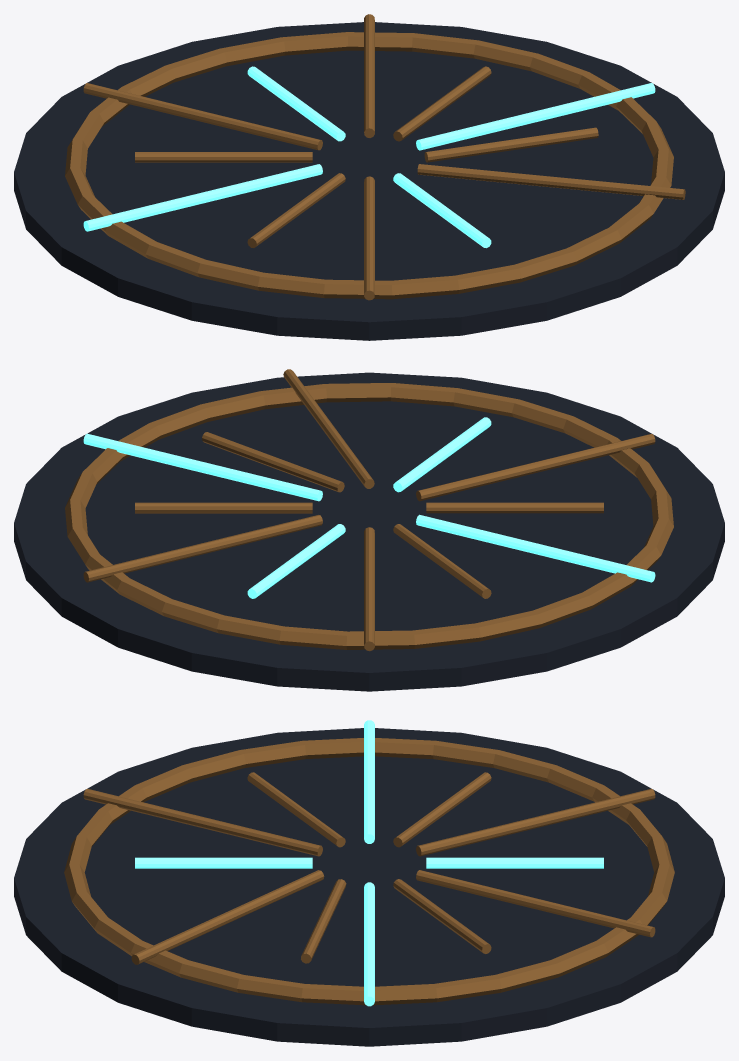
Rendered from runtime.glb.
3 views of the same model, one above another, from view 1: azimuth 30°, elevation 25°; view 2: azimuth 150°, elevation 25°; view 3: azimuth 270°, elevation 25° (orthographic).
Parts seen in each view (by area): view 1: aetherion-astronomical-medallion-v04_field_nocol, aetherion-astronomical-medallion-v04_outer_meridian_nocol, aetherion-astronomical-medallion-v04_bearing_10_nocol, aetherion-astronomical-medallion-v04_bearing_06_nocol, aetherion-astronomical-medallion-v04_bearing_00_nocol, aetherion-astronomical-medallion-v04_bearing_04_nocol, aetherion-astronomical-medallion-v04_bearing_11_nocol, aetherion-astronomical-medallion-v04_bearing_05_nocol, aetherion-astronomical-medallion-v04_bearing_01_nocol, aetherion-astronomical-medallion-v04_bearing_03_nocol, aetherion-astronomical-medallion-v04_bearing_09_nocol, aetherion-astronomical-medallion-v04_bearing_08_nocol (+2 smaller); view 2: aetherion-astronomical-medallion-v04_field_nocol, aetherion-astronomical-medallion-v04_outer_meridian_nocol, aetherion-astronomical-medallion-v04_bearing_02_nocol, aetherion-astronomical-medallion-v04_bearing_00_nocol, aetherion-astronomical-medallion-v04_bearing_06_nocol, aetherion-astronomical-medallion-v04_bearing_08_nocol, aetherion-astronomical-medallion-v04_bearing_01_nocol, aetherion-astronomical-medallion-v04_bearing_07_nocol, aetherion-astronomical-medallion-v04_bearing_11_nocol, aetherion-astronomical-medallion-v04_bearing_10_nocol, aetherion-astronomical-medallion-v04_bearing_04_nocol, aetherion-astronomical-medallion-v04_bearing_09_nocol (+2 smaller); view 3: aetherion-astronomical-medallion-v04_field_nocol, aetherion-astronomical-medallion-v04_outer_meridian_nocol, aetherion-astronomical-medallion-v04_bearing_04_nocol, aetherion-astronomical-medallion-v04_bearing_08_nocol, aetherion-astronomical-medallion-v04_bearing_02_nocol, aetherion-astronomical-medallion-v04_bearing_10_nocol, aetherion-astronomical-medallion-v04_bearing_03_nocol, aetherion-astronomical-medallion-v04_bearing_09_nocol, aetherion-astronomical-medallion-v04_bearing_01_nocol, aetherion-astronomical-medallion-v04_bearing_00_nocol, aetherion-astronomical-medallion-v04_bearing_06_nocol, aetherion-astronomical-medallion-v04_bearing_05_nocol (+2 smaller).
Part boxes in pixels (bbox=[...]): aetherion-astronomical-medallion-v04_field_nocol: bbox=[14, 22, 724, 340]; aetherion-astronomical-medallion-v04_outer_meridian_nocol: bbox=[65, 32, 673, 299]; aetherion-astronomical-medallion-v04_bearing_10_nocol: bbox=[417, 164, 685, 199]; aetherion-astronomical-medallion-v04_bearing_06_nocol: bbox=[83, 164, 322, 231]; aetherion-astronomical-medallion-v04_bearing_00_nocol: bbox=[416, 83, 655, 150]; aetherion-astronomical-medallion-v04_bearing_04_nocol: bbox=[83, 83, 322, 150]; aetherion-astronomical-medallion-v04_bearing_11_nocol: bbox=[424, 127, 598, 162]; aetherion-astronomical-medallion-v04_bearing_05_nocol: bbox=[135, 152, 312, 162]; aetherion-astronomical-medallion-v04_bearing_01_nocol: bbox=[393, 66, 491, 141]; aetherion-astronomical-medallion-v04_bearing_03_nocol: bbox=[247, 66, 345, 141]; aetherion-astronomical-medallion-v04_bearing_09_nocol: bbox=[393, 173, 491, 248]; aetherion-astronomical-medallion-v04_bearing_08_nocol: bbox=[364, 176, 374, 300]; aetherion-astronomical-medallion-v04_field_nocol: bbox=[14, 372, 724, 691]; aetherion-astronomical-medallion-v04_outer_meridian_nocol: bbox=[65, 383, 673, 649]; aetherion-astronomical-medallion-v04_bearing_02_nocol: bbox=[83, 515, 322, 582]; aetherion-astronomical-medallion-v04_bearing_00_nocol: bbox=[83, 433, 322, 501]; aetherion-astronomical-medallion-v04_bearing_06_nocol: bbox=[416, 514, 655, 582]; aetherion-astronomical-medallion-v04_bearing_08_nocol: bbox=[416, 434, 655, 501]; aetherion-astronomical-medallion-v04_bearing_01_nocol: bbox=[135, 502, 312, 513]; aetherion-astronomical-medallion-v04_bearing_07_nocol: bbox=[426, 502, 603, 513]; aetherion-astronomical-medallion-v04_bearing_11_nocol: bbox=[202, 432, 344, 492]; aetherion-astronomical-medallion-v04_bearing_10_nocol: bbox=[283, 369, 374, 488]; aetherion-astronomical-medallion-v04_bearing_04_nocol: bbox=[364, 527, 374, 651]; aetherion-astronomical-medallion-v04_bearing_09_nocol: bbox=[393, 417, 491, 492]; aetherion-astronomical-medallion-v04_field_nocol: bbox=[14, 728, 724, 1046]; aetherion-astronomical-medallion-v04_outer_meridian_nocol: bbox=[64, 738, 674, 1005]; aetherion-astronomical-medallion-v04_bearing_04_nocol: bbox=[416, 788, 655, 856]; aetherion-astronomical-medallion-v04_bearing_08_nocol: bbox=[83, 788, 322, 856]; aetherion-astronomical-medallion-v04_bearing_02_nocol: bbox=[416, 870, 655, 937]; aetherion-astronomical-medallion-v04_bearing_10_nocol: bbox=[131, 870, 324, 964]; aetherion-astronomical-medallion-v04_bearing_03_nocol: bbox=[426, 857, 603, 868]; aetherion-astronomical-medallion-v04_bearing_09_nocol: bbox=[135, 857, 312, 868]; aetherion-astronomical-medallion-v04_bearing_01_nocol: bbox=[393, 879, 491, 953]; aetherion-astronomical-medallion-v04_bearing_00_nocol: bbox=[364, 882, 374, 1006]; aetherion-astronomical-medallion-v04_bearing_06_nocol: bbox=[364, 720, 374, 843]; aetherion-astronomical-medallion-v04_bearing_05_nocol: bbox=[393, 772, 491, 847].
Size of the model in its own units: 9.65 by 0.5738 by 9.65.
